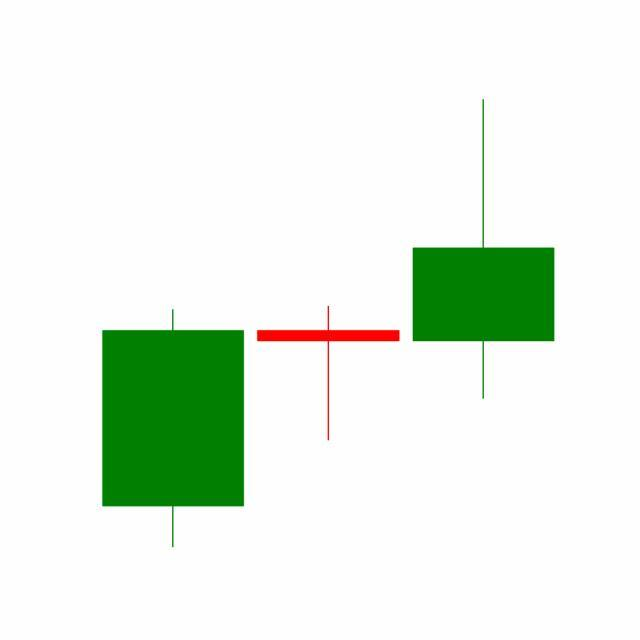Spinning Top: (250, 305, 407, 443)
